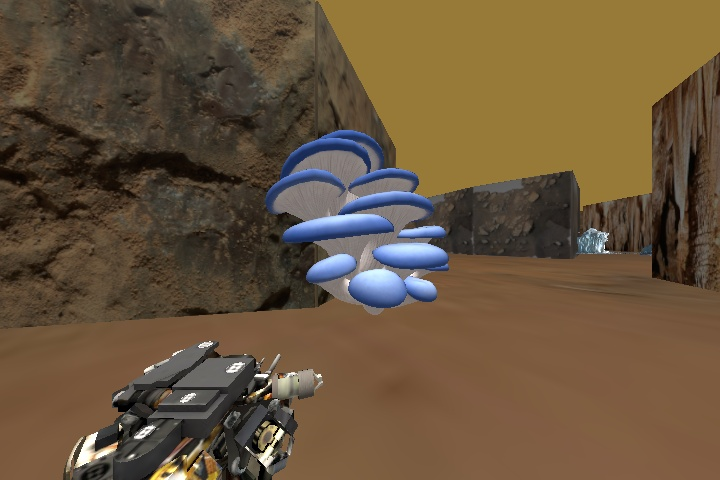minerals: (577, 226, 611, 254)
mushroom: (268, 130, 448, 316)
